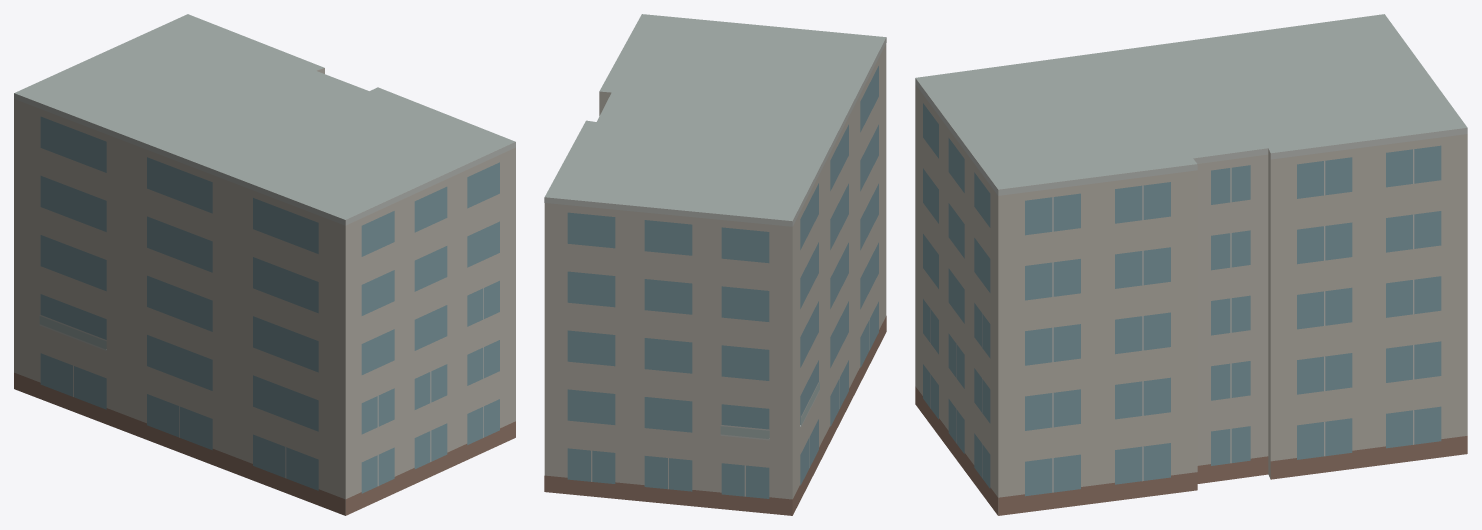
File: survey-upis-32619366.glb
The picture shows the model from 3 angles, left to right: view 1: azimuth 30°, elevation 25°; view 2: azimuth 150°, elevation 25°; view 3: azimuth 270°, elevation 25°; orthographic projection. The views are drawn at different scales.
Visible parts, largest first — view 1: survey-upis-32619366.tmp; view 2: survey-upis-32619366.tmp; view 3: survey-upis-32619366.tmp.
Part boxes in pixels (x1,y1,x2,y2): survey-upis-32619366.tmp: (14, 14, 515, 515); survey-upis-32619366.tmp: (544, 14, 886, 515); survey-upis-32619366.tmp: (915, 14, 1467, 515).
Size of the model in its own units: 14.73 by 12.75 by 19.58.
